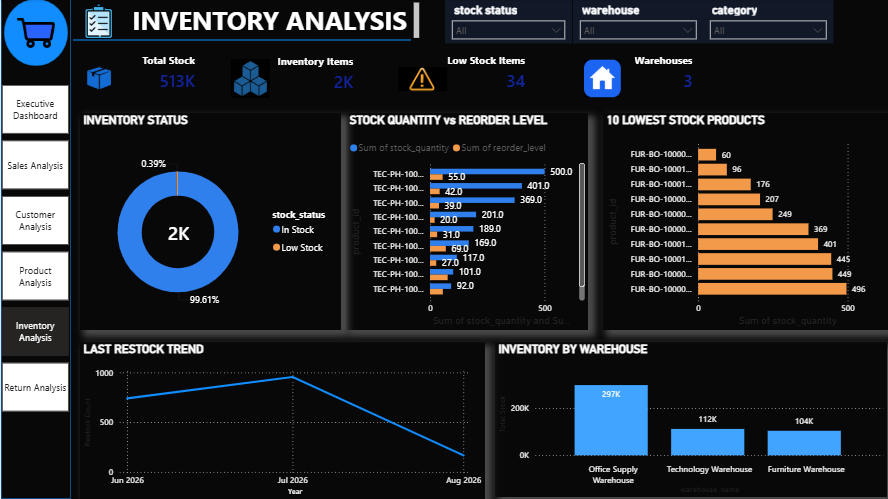

What the dashboard file says about the page in this screenshot:
{"tool":"powerbi","page":{"name":"Inventory Analysis","canvas":[1280,720],"ordinal":4},"visuals":[{"type":"slicer","fields":{"Values":["public inventory.stock_status"]},"box":[640,0,183.1,63.8],"z":0},{"type":"cardVisual","fields":{"Data":["DimDate.Inventory Items"]},"box":[318.5,63.7,218.4,100.1],"z":1000},{"type":"cardVisual","fields":{"Data":["DimDate.Total Stock"]},"box":[101.6,63.7,206.3,98.6],"z":2000},{"type":"cardVisual","fields":{"Data":["DimDate.Low Stock Items"]},"box":[558.1,62.2,226,100.1],"z":3000},{"type":"cardVisual","fields":{"Data":["DimDate.Warehouses"]},"box":[800.8,62.2,224.5,100.1],"z":4000},{"type":"slicer","fields":{"Values":["public products.category"]},"box":[1011.2,0,188.1,63.8],"z":6000},{"type":"donutChart","title":"INVENTORY STATUS","fields":{"Category":["public inventory.stock_status"],"Y":["DimDate.Total Stock"]},"box":[113.7,163.8,376.1,312.4],"z":8000},{"type":"textbox","box":[102.2,0,505.4,74.9],"z":10000},{"type":"shape","box":[103.7,34.6,486.7,49],"z":11000},{"type":"shape","box":[0,0,100.8,720],"z":12000},{"type":"shape","box":[4.3,0,92.2,96.5],"z":13000},{"type":"image","box":[113.8,86.4,54.7,56.2],"z":18000},{"type":"image","box":[331.2,86.4,56.2,56.2],"z":19000},{"type":"image","box":[571.7,87.8,70.6,54.7],"z":20000},{"type":"image","box":[839.5,86.4,53.3,56.2],"z":21000},{"type":"image","box":[13,17.3,74.9,63.4],"z":22000},{"type":"pageNavigator","box":[1.4,123.8,96.5,472.3],"z":23000},{"type":"cardVisual","fields":{"Data":["DimDate.Inventory Items"]},"box":[210.8,283.6,91,100.1],"z":24000},{"type":"clusteredBarChart","title":"STOCK QUANTITY vs REORDER LEVEL","fields":{"Category":["public products.product_id"],"Y":["Sum(public inventory.stock_quantity)","Sum(public inventory.reorder_level)"]},"box":[497.4,163.8,348.8,312.4],"z":25000},{"type":"clusteredColumnChart","title":"INVENTORY BY WAREHOUSE","fields":{"Y":["DimDate.Total Stock"],"Category":["public inventory.warehouse_name"]},"box":[711.4,493.9,564.5,223.2],"z":26000},{"type":"lineChart","title":"LAST RESTOCK TREND","fields":{"Category":["public inventory.last_restock_date.Variation.Date Hierarchy.Year","public inventory.last_restock_date.Variation.Date Hierarchy.Month"],"Y":["DimDate.Restock Count"]},"box":[113.8,493.9,583.2,226.1],"z":27000},{"type":"image","box":[105.1,4.3,70.6,54.7],"z":27001},{"type":"slicer","fields":{"Values":["public inventory.warehouse_name"]},"box":[823.1,0,188.1,63.8],"z":27002},{"type":"clusteredBarChart","title":"10 LOWEST STOCK PRODUCTS","fields":{"Category":["public products.product_id"],"Y":["Sum(public inventory.stock_quantity)"]},"box":[866.9,164.2,410.4,312.5],"z":27003}]}

Visuals, with their boxes on the page's 1280x720 design canvas (x1, y1, x2, y2). These are canvas units, not pixel positions in the 888x499 screenshot, which may show the page scaled, cropped or inside an application window:
slicer - public inventory.stock_status: box=[640, 0, 823, 64]
cardVisual - DimDate.Inventory Items: box=[318, 64, 537, 164]
cardVisual - DimDate.Total Stock: box=[102, 64, 308, 162]
cardVisual - DimDate.Low Stock Items: box=[558, 62, 784, 162]
cardVisual - DimDate.Warehouses: box=[801, 62, 1025, 162]
slicer - public products.category: box=[1011, 0, 1199, 64]
"INVENTORY STATUS" donutChart: box=[114, 164, 490, 476]
textbox: box=[102, 0, 608, 75]
shape: box=[104, 35, 590, 84]
shape: box=[0, 0, 101, 720]
shape: box=[4, 0, 96, 96]
image: box=[114, 86, 168, 143]
image: box=[331, 86, 387, 143]
image: box=[572, 88, 642, 142]
image: box=[840, 86, 893, 143]
image: box=[13, 17, 88, 81]
pageNavigator: box=[1, 124, 98, 596]
cardVisual - DimDate.Inventory Items: box=[211, 284, 302, 384]
"STOCK QUANTITY vs REORDER LEVEL" clusteredBarChart: box=[497, 164, 846, 476]
"INVENTORY BY WAREHOUSE" clusteredColumnChart: box=[711, 494, 1276, 717]
"LAST RESTOCK TREND" lineChart: box=[114, 494, 697, 720]
image: box=[105, 4, 176, 59]
slicer - public inventory.warehouse_name: box=[823, 0, 1011, 64]
"10 LOWEST STOCK PRODUCTS" clusteredBarChart: box=[867, 164, 1277, 477]
